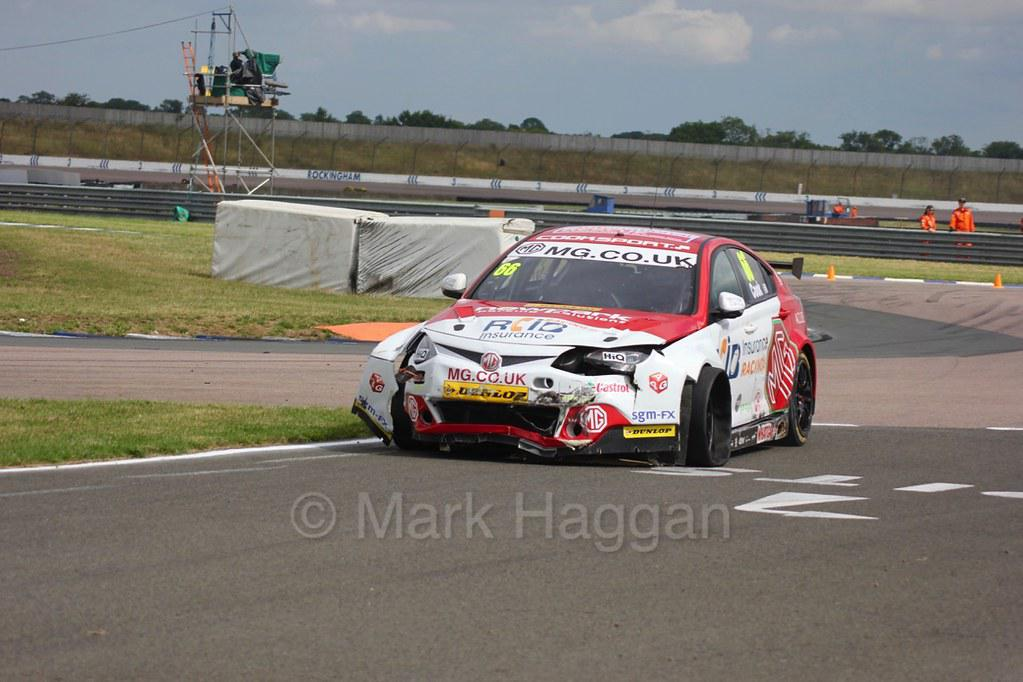bonnet-dent: (426, 288, 677, 351)
front-bumper-dent: (565, 366, 675, 434)
